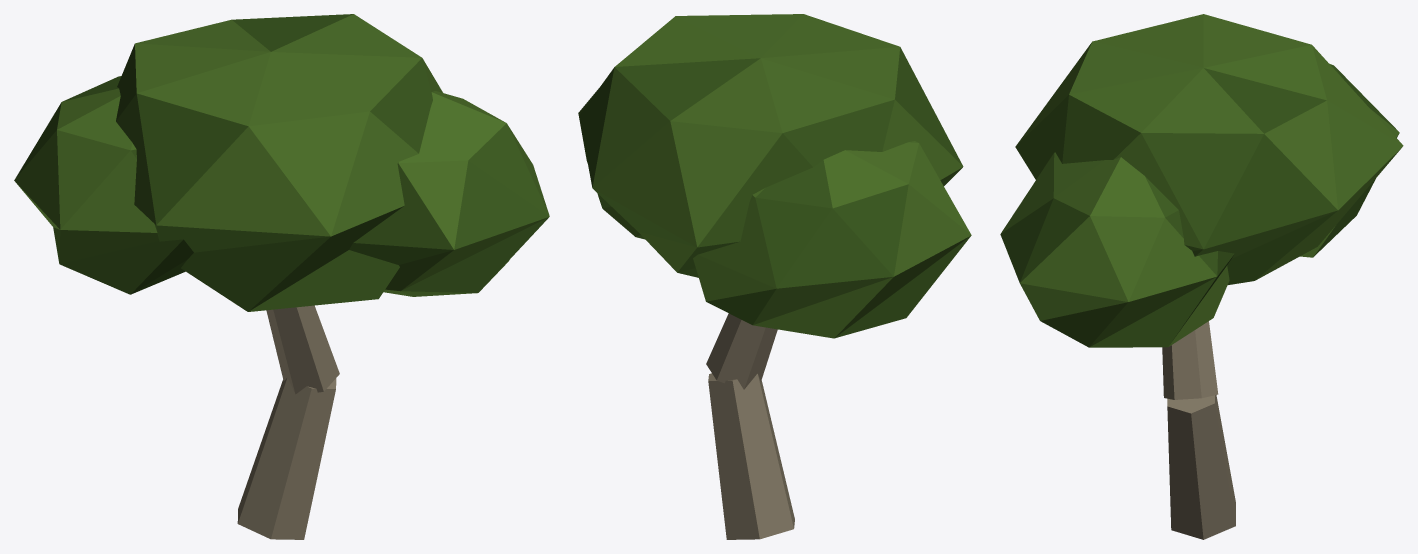
The model's file is plane_tree.glb.
3 views of the same model, side by side, from view 1: azimuth 30°, elevation 25°; view 2: azimuth 150°, elevation 25°; view 3: azimuth 270°, elevation 25° (orthographic). The views are drawn at different scales.
Visible parts, largest first — view 1: plane_tree2; view 2: plane_tree2; view 3: plane_tree2.
Part boxes in pixels (x1,y1,x2,y2): plane_tree2: (14, 14, 549, 539); plane_tree2: (578, 14, 971, 539); plane_tree2: (1000, 14, 1403, 539).
Bounding box in the file's own units: 5.46 × 5.79 × 4.64.
